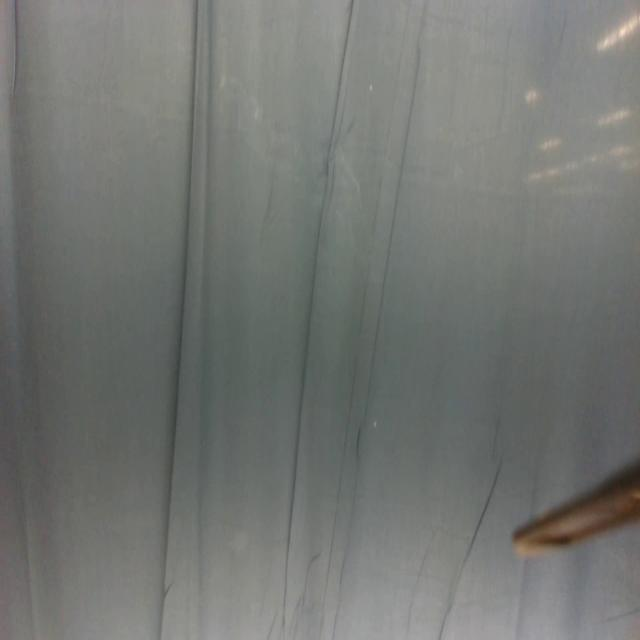crease: (317, 0, 428, 639), (281, 0, 355, 632), (157, 0, 201, 640), (440, 453, 503, 640), (10, 0, 22, 97)
